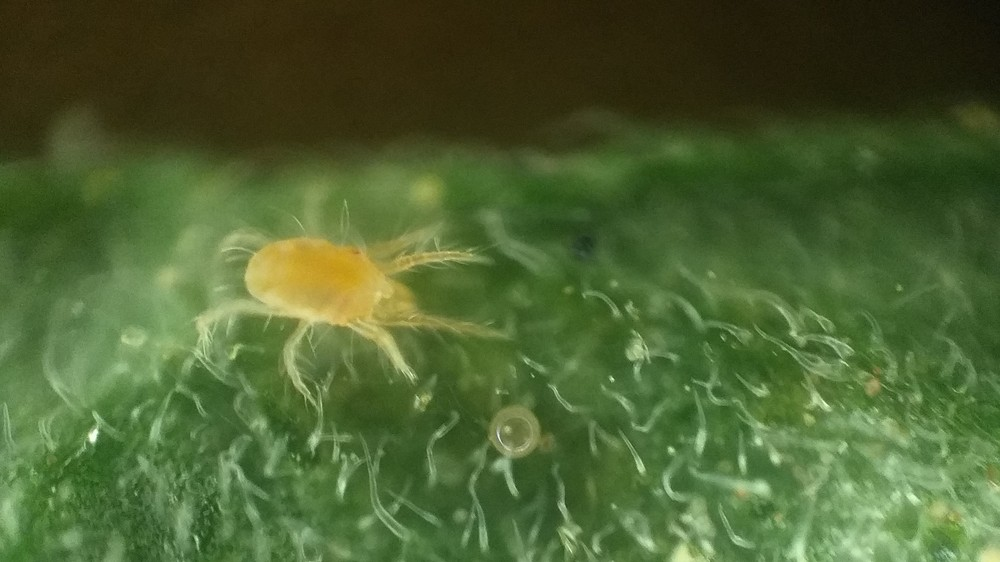Aracnido Rojo: (184, 187, 522, 413)
